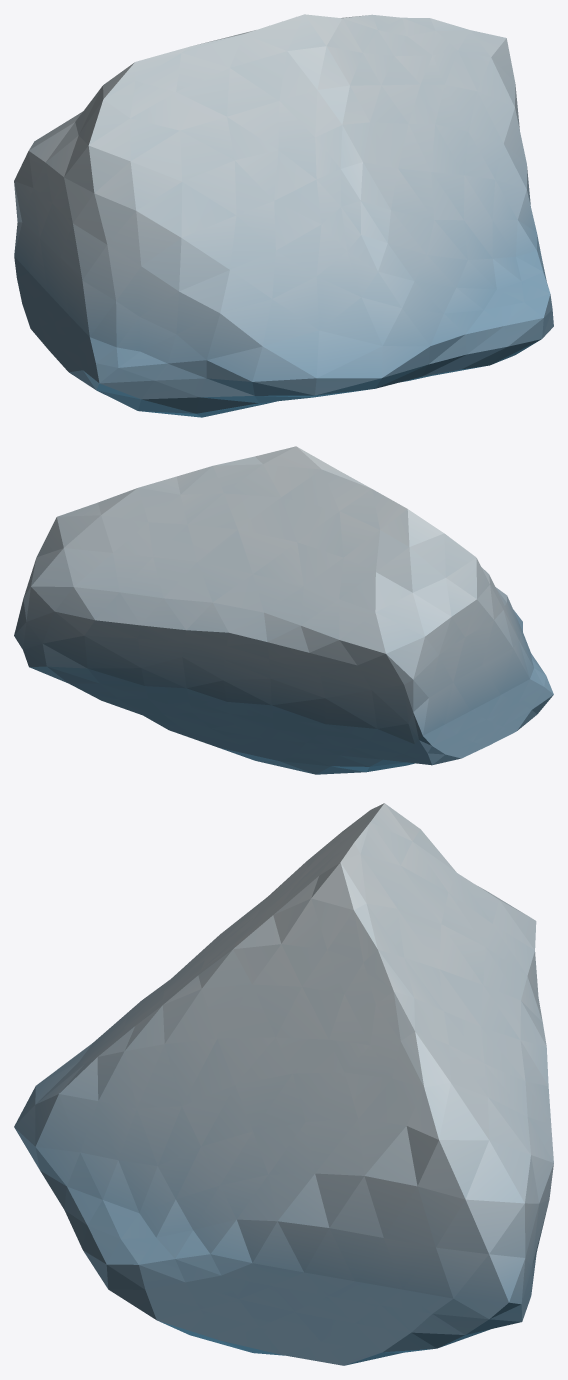
Rendered from iceberg-block.glb.
3 views of the same model, one above another, from view 1: azimuth 30°, elevation 25°; view 2: azimuth 150°, elevation 25°; view 3: azimuth 270°, elevation 25° (orthographic). The views are drawn at different scales.
Visible parts, largest first — view 1: iceberg-block; view 2: iceberg-block; view 3: iceberg-block.
Part boxes in pixels (<box>): iceberg-block: <box>14,14,553,417</box>; iceberg-block: <box>14,446,553,774</box>; iceberg-block: <box>14,803,553,1365</box>.
Size of the model in its own units: 8 by 5 by 6.
